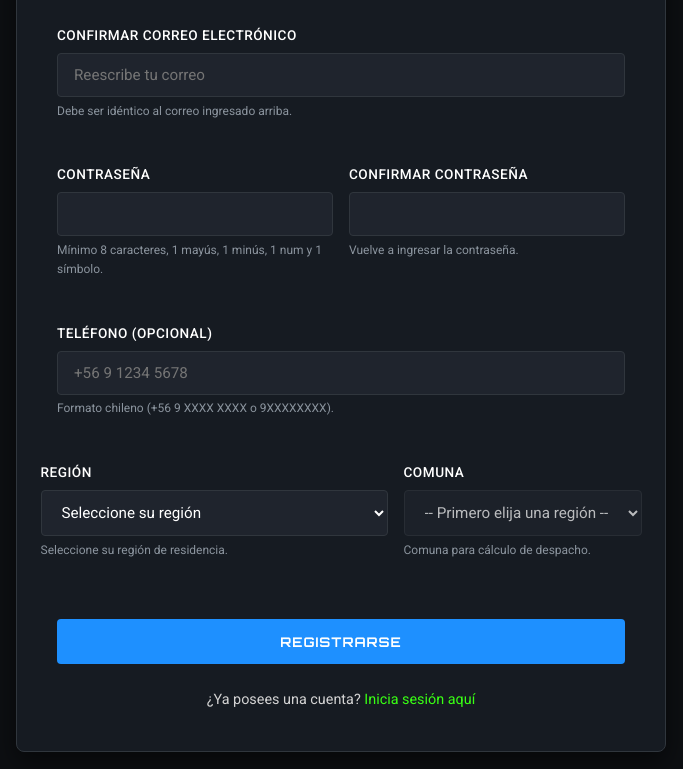
Test: pagina Registro › dependencia región → comuna › al elegir región se habilita la comuna con sus comunas
(page scrolled)
Select "Arica y Parinacota" in the dropdown labelled "Región": (214, 513) [40, 490, 388, 536]
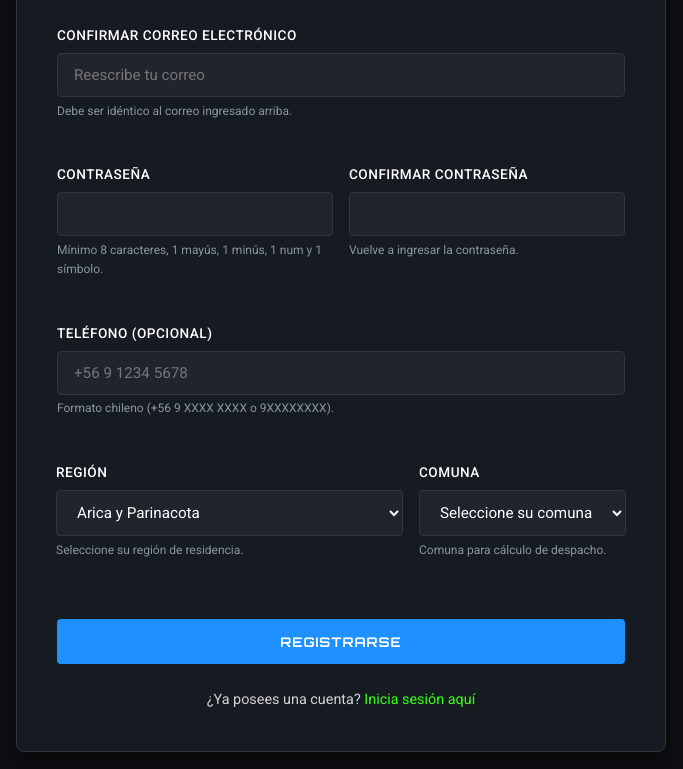
Now the dropdown labelled "Comuna" is enabled, box [419, 490, 626, 536]
